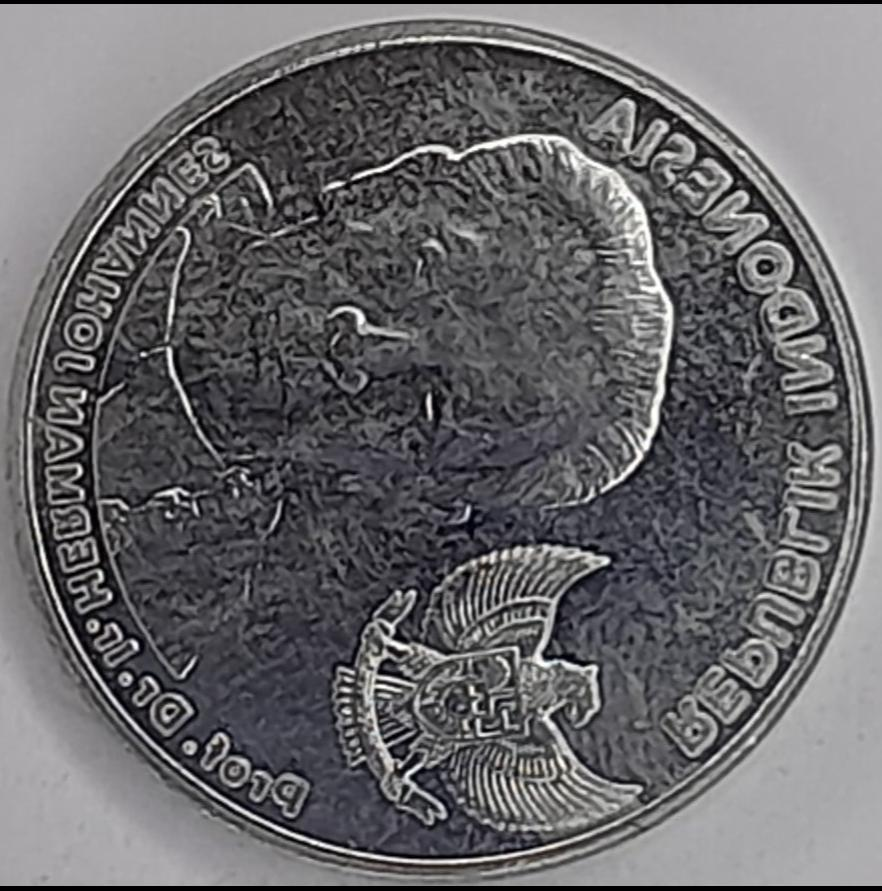coin_100_e2016: (6, 14, 877, 881)
